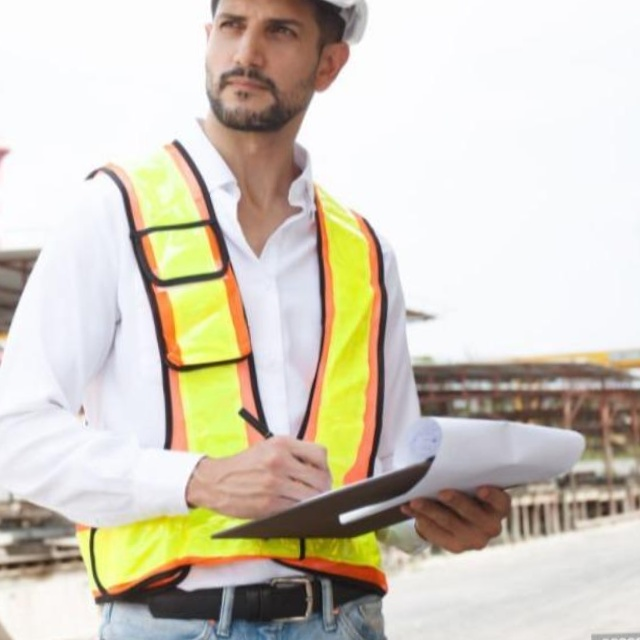Con_Casco: (194, 0, 371, 130)
Con_Chaleco: (51, 134, 426, 612)
